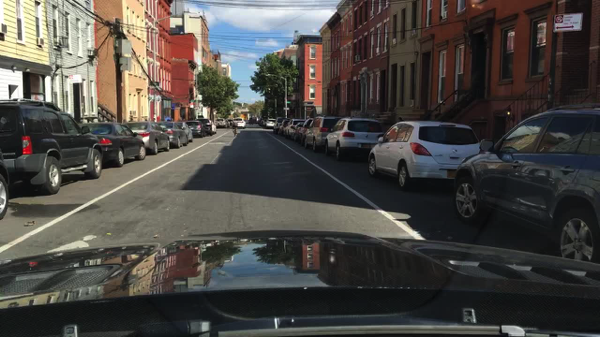bike: (231, 124, 239, 138)
car: (450, 103, 598, 263), (0, 97, 104, 196), (366, 119, 481, 193), (79, 120, 147, 169), (324, 116, 384, 165), (122, 120, 171, 156), (303, 113, 342, 154), (155, 120, 189, 150), (0, 148, 12, 221), (290, 117, 313, 146), (173, 120, 195, 145), (283, 117, 304, 139), (183, 120, 207, 139), (272, 116, 290, 136), (195, 118, 213, 136), (290, 121, 304, 143), (278, 118, 290, 137), (231, 117, 247, 129), (208, 119, 218, 135), (214, 118, 228, 129), (265, 118, 277, 130), (248, 115, 260, 124), (224, 118, 231, 129), (258, 118, 265, 127), (261, 117, 267, 127), (227, 118, 234, 126)
person: (249, 115, 255, 127)
rider: (232, 118, 239, 135)
